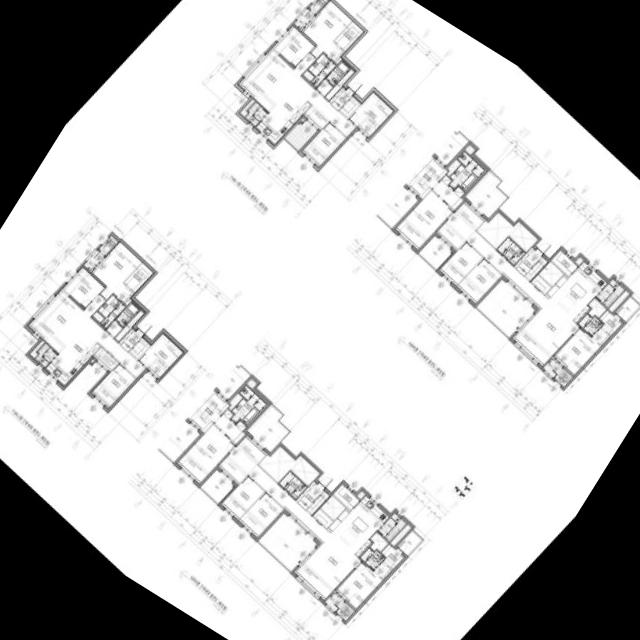background: (0, 0, 640, 640)
space_balconi: (257, 513, 316, 571), (476, 279, 534, 337), (464, 171, 507, 219), (246, 405, 288, 453), (200, 469, 234, 503), (418, 235, 452, 269), (284, 121, 315, 150), (377, 513, 406, 542), (595, 279, 624, 308), (397, 531, 421, 556), (615, 297, 639, 322), (34, 343, 57, 367), (245, 102, 267, 126), (293, 9, 314, 29), (83, 250, 103, 271), (324, 592, 343, 611), (542, 359, 561, 377)
space_bedroom: (395, 190, 453, 250), (177, 424, 234, 483), (301, 0, 351, 62), (91, 242, 141, 303), (335, 562, 391, 609), (553, 328, 609, 375), (348, 92, 393, 138), (138, 333, 183, 379), (238, 492, 283, 537), (456, 258, 501, 303), (301, 122, 346, 167), (91, 363, 135, 408), (221, 476, 264, 520), (439, 242, 482, 286), (62, 267, 103, 308), (272, 26, 313, 67)
space_dressroom: (186, 390, 229, 433), (405, 156, 447, 199), (334, 21, 363, 51), (123, 263, 152, 292), (380, 544, 403, 569), (599, 310, 621, 335)
space_front: (296, 481, 323, 510), (514, 247, 541, 276), (118, 328, 142, 352), (329, 87, 351, 111)
space_kitchen: (326, 495, 388, 557), (545, 261, 606, 323), (45, 329, 100, 385), (255, 88, 310, 144)
space_living_room: (218, 436, 360, 600), (436, 202, 578, 366), (28, 290, 145, 379), (238, 49, 355, 137)
space_other: (258, 446, 319, 486), (476, 212, 537, 252), (214, 409, 246, 444), (432, 175, 464, 210), (114, 310, 144, 342), (324, 69, 354, 100), (332, 484, 359, 510), (550, 250, 577, 276), (320, 495, 345, 520), (538, 261, 563, 286), (303, 105, 328, 130), (92, 347, 117, 371), (306, 491, 329, 514), (525, 257, 547, 280), (389, 524, 410, 546), (129, 337, 150, 359), (607, 290, 628, 312), (339, 97, 360, 118), (369, 532, 388, 552), (312, 509, 332, 528), (587, 298, 606, 318), (531, 275, 550, 294), (238, 98, 254, 117), (315, 79, 332, 96), (105, 321, 122, 337), (29, 340, 44, 358), (228, 393, 242, 410), (446, 159, 460, 176), (246, 379, 256, 389), (464, 145, 474, 155), (356, 491, 364, 499), (574, 257, 582, 265), (124, 298, 131, 305), (335, 57, 341, 64), (300, 118, 304, 122), (90, 359, 94, 363)
space_outdoor_room: (98, 235, 117, 255), (335, 602, 354, 621), (553, 368, 572, 387), (308, 0, 328, 14)
space_toilet: (230, 386, 265, 425), (448, 152, 483, 191), (302, 53, 335, 87), (92, 295, 125, 328), (278, 472, 306, 499), (497, 238, 524, 265), (114, 302, 139, 327), (325, 61, 349, 86), (359, 548, 384, 570), (578, 314, 602, 336)
